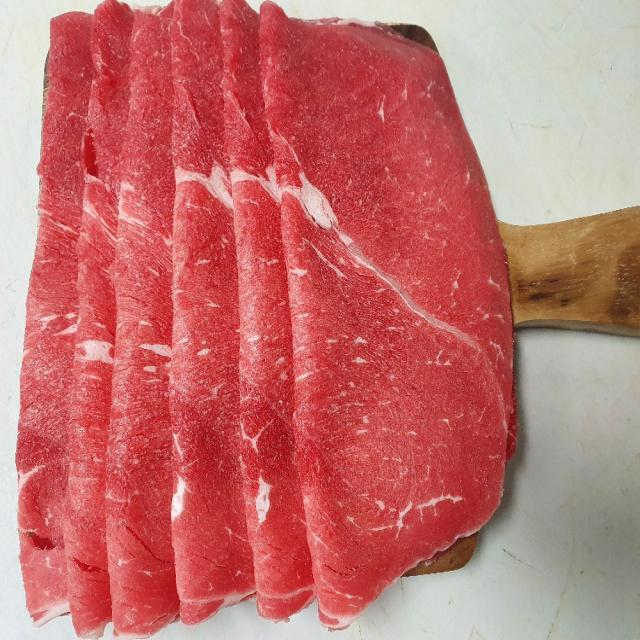beef: (179, 112, 444, 436)
